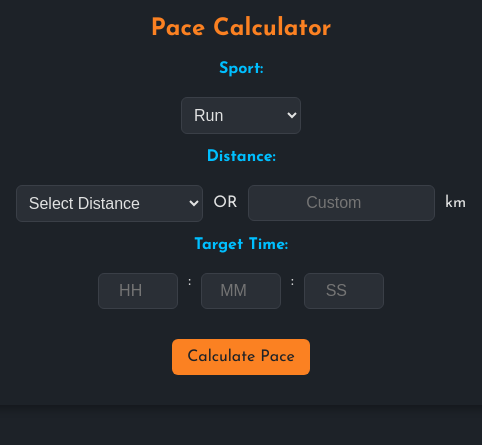
Pace Calculator › calculates pace correctly for swimming
This screenshot has width=482, height=445.
Select "Swim" in the dropdown labelled "Sport:" at coordinates (241, 115), box 181,97 -> 301,134
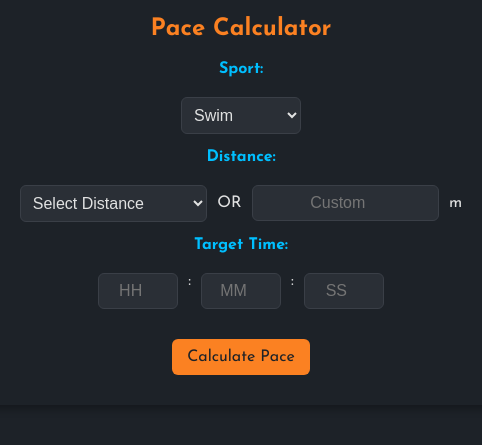
Select "1000m" in the dropdown labelled "Distance:" at coordinates (114, 203), box 20,185 -> 207,222
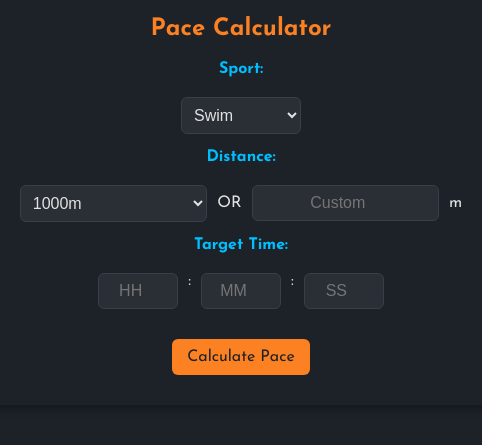
Type "0" into the number field with placeholder "HH" at coordinates (138, 291), box 98,273 -> 178,309
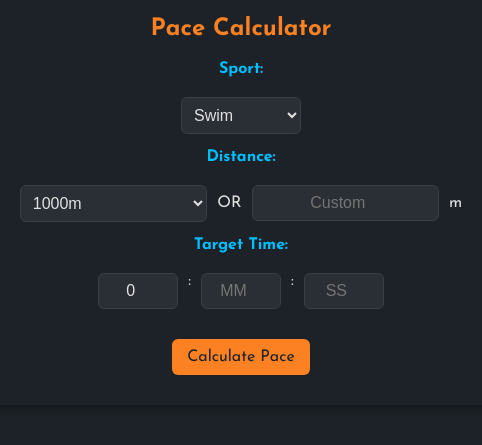
Type "20" into the number field with placeholder "MM" at coordinates (241, 291), box 201,273 -> 281,309
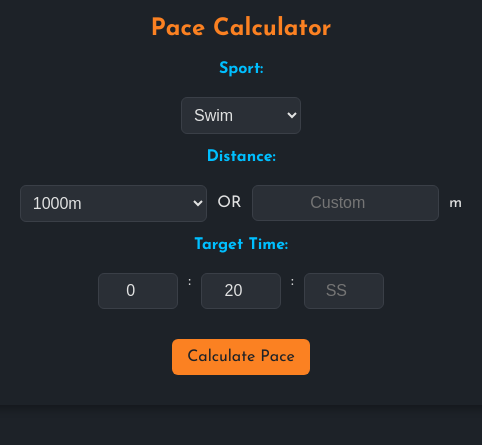
Type "0" into the number field with placeholder "SS" at coordinates (344, 291), box 304,273 -> 384,309
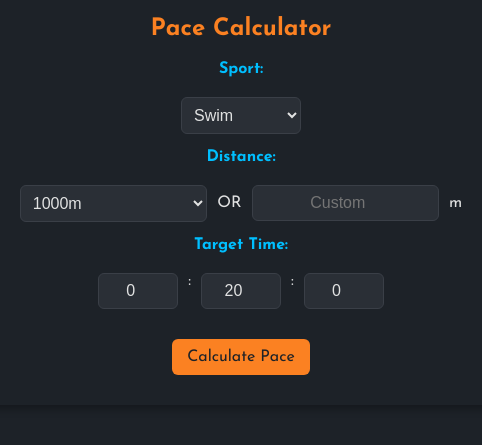
Click the button "Calculate Pace" at coordinates (241, 357), box 172,339 -> 310,375
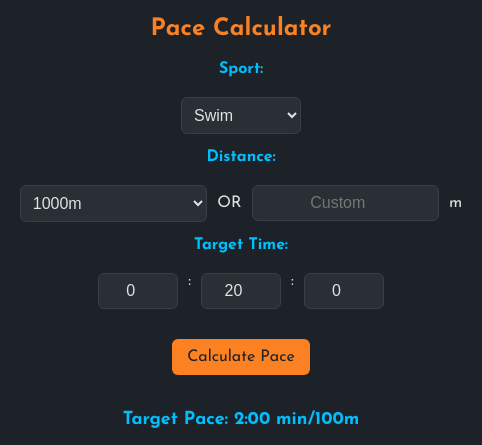
Expected: the heading "Target Pace: 2:00 min/100m" is shown, 123,410 -> 359,429
